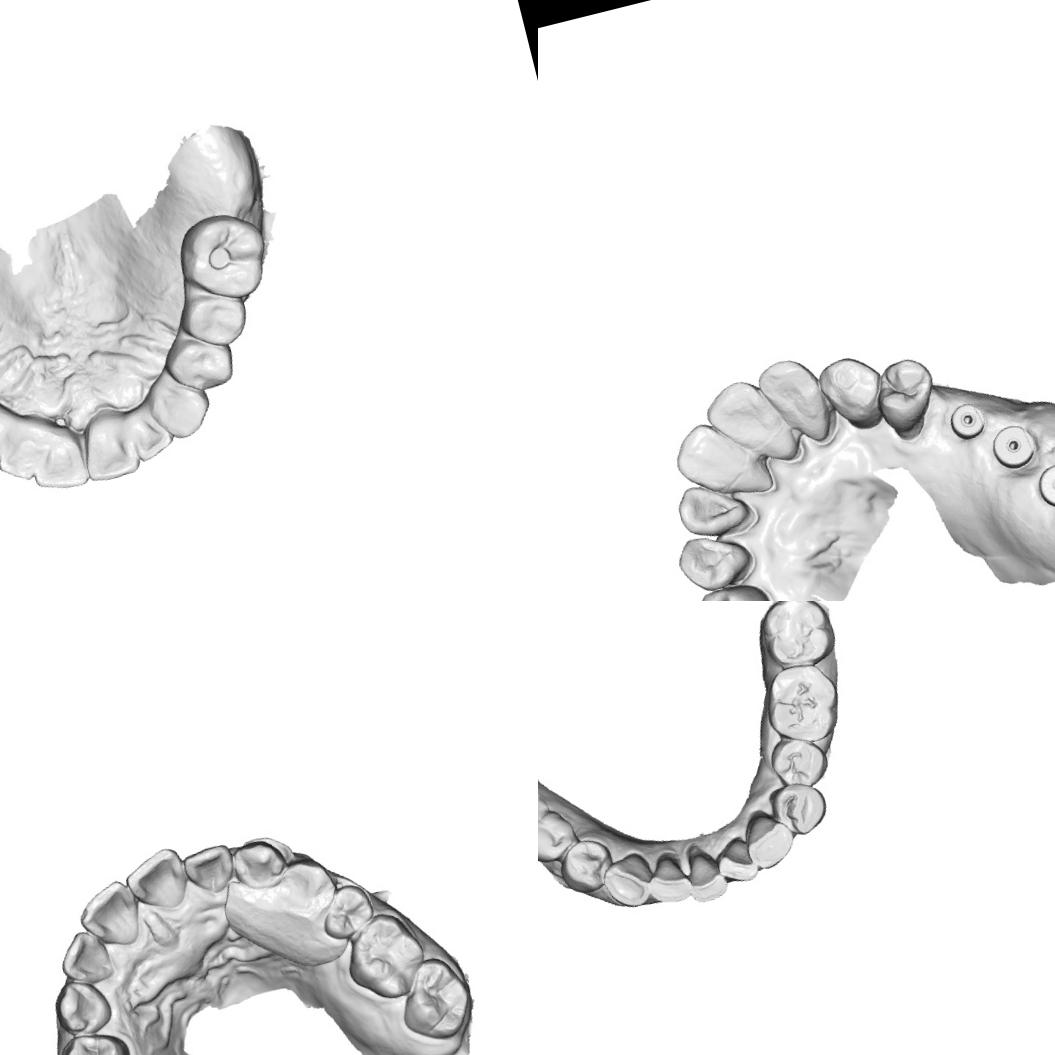canine: (812, 348, 892, 440), (672, 523, 761, 600), (144, 374, 218, 444), (48, 972, 116, 1040), (598, 847, 659, 919), (226, 831, 290, 894), (740, 805, 798, 873), (0, 413, 16, 475)
implant: (985, 420, 1040, 473), (945, 399, 989, 443), (1031, 457, 1055, 513)
incisor: (752, 350, 838, 454), (697, 370, 784, 460), (666, 414, 750, 489), (70, 874, 146, 956), (670, 472, 758, 542), (119, 843, 194, 918), (74, 410, 144, 486), (52, 923, 118, 990), (28, 433, 95, 496), (637, 843, 698, 912), (677, 839, 732, 907), (178, 840, 239, 899), (121, 403, 177, 464), (708, 826, 760, 888), (0, 428, 44, 487)
molar: (170, 204, 277, 310), (335, 904, 434, 1009), (390, 950, 478, 1048), (757, 655, 846, 751), (754, 601, 838, 674)
premolar: (868, 352, 947, 446), (174, 284, 255, 356), (160, 323, 238, 397), (269, 852, 342, 924), (766, 776, 832, 842), (314, 878, 380, 943), (764, 730, 829, 794), (556, 834, 616, 897), (538, 806, 581, 870), (53, 1023, 136, 1055), (691, 576, 777, 601), (538, 782, 553, 836)
